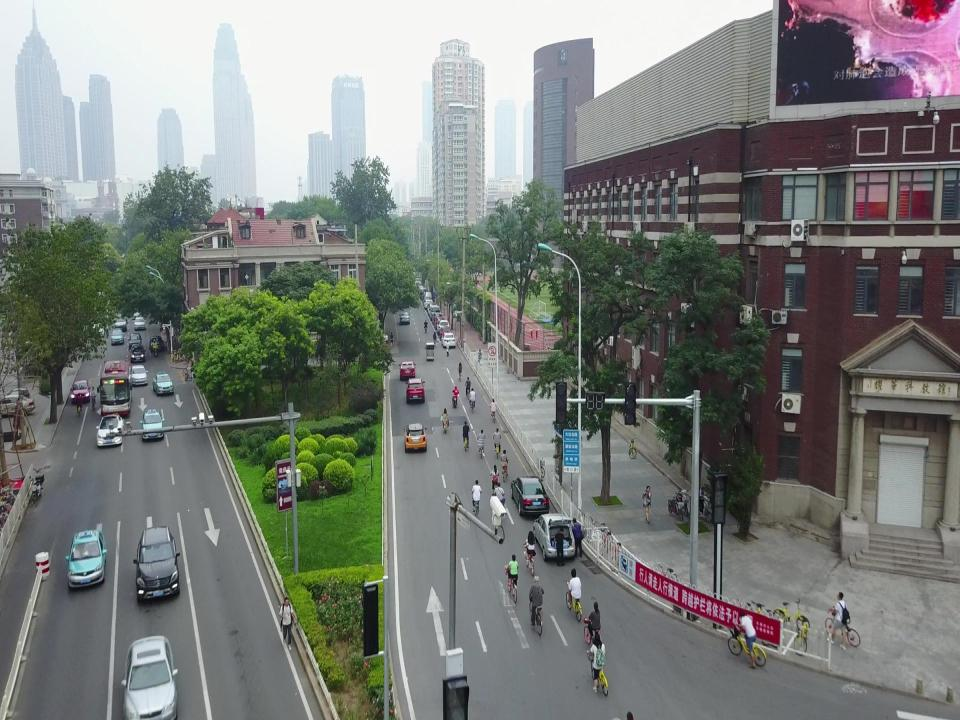bus: (96, 358, 132, 421)
car: (122, 635, 178, 720), (134, 526, 180, 602), (64, 531, 107, 590), (534, 513, 586, 561), (510, 476, 550, 516), (96, 417, 124, 448), (0, 395, 36, 418), (403, 422, 428, 452), (140, 410, 164, 441), (152, 372, 174, 397), (405, 378, 425, 405), (128, 362, 147, 387), (70, 379, 90, 402), (398, 360, 416, 380), (129, 344, 145, 363), (148, 335, 164, 352), (5, 388, 30, 398), (111, 328, 125, 345), (441, 332, 455, 348), (128, 333, 142, 348), (436, 320, 450, 335), (133, 316, 147, 330), (439, 327, 453, 341), (429, 305, 441, 321), (434, 316, 446, 329), (432, 312, 444, 325), (398, 312, 410, 324), (427, 303, 437, 315), (423, 299, 433, 310)
van: (114, 310, 128, 332)
